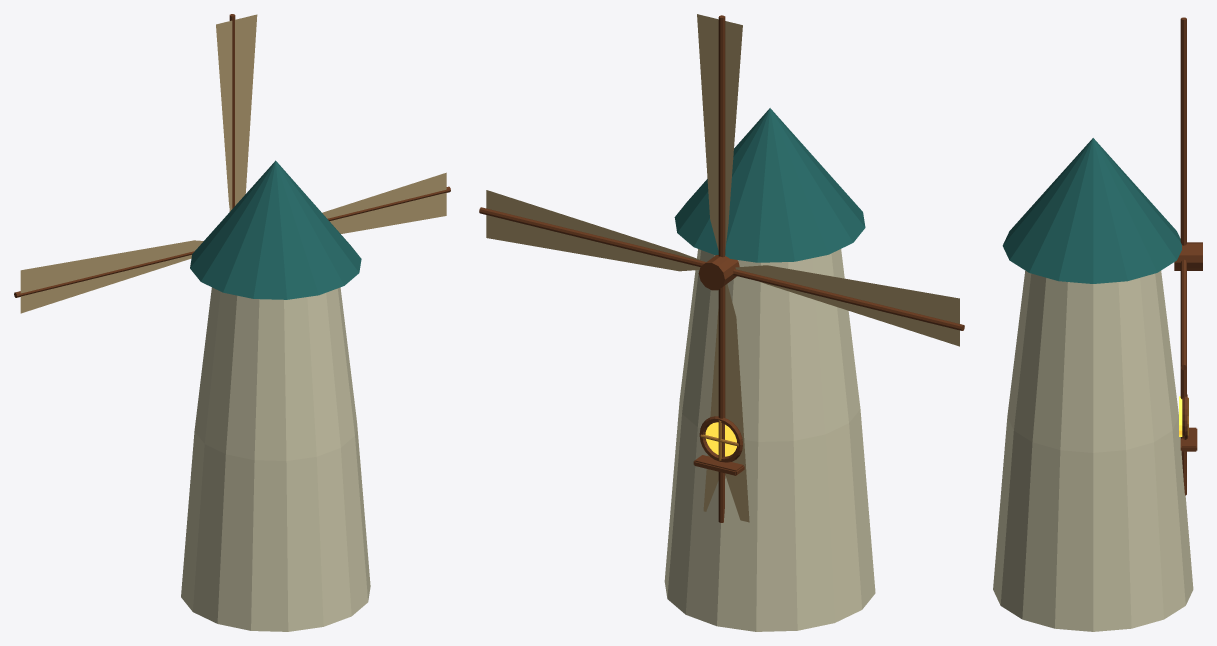
File: windmill.glb
3 views of the same model, side by side, from view 1: azimuth 30°, elevation 25°; view 2: azimuth 150°, elevation 25°; view 3: azimuth 270°, elevation 25° (orthographic). The views are drawn at different scales.
Visible parts, largest first — view 1: Tideglass windmillMesh, BladesMesh; view 2: Tideglass windmillMesh, BladesMesh; view 3: Tideglass windmillMesh, BladesMesh.
Part boxes in pixels (x1,y1,x2,y2): Tideglass windmillMesh: [181, 160, 370, 631]; BladesMesh: [14, 14, 450, 313]; Tideglass windmillMesh: [664, 108, 875, 631]; BladesMesh: [479, 14, 964, 522]; Tideglass windmillMesh: [993, 138, 1202, 631]; BladesMesh: [1180, 17, 1186, 495].
Bounding box in the file's own units: 11 × 13.2 × 4.4.
